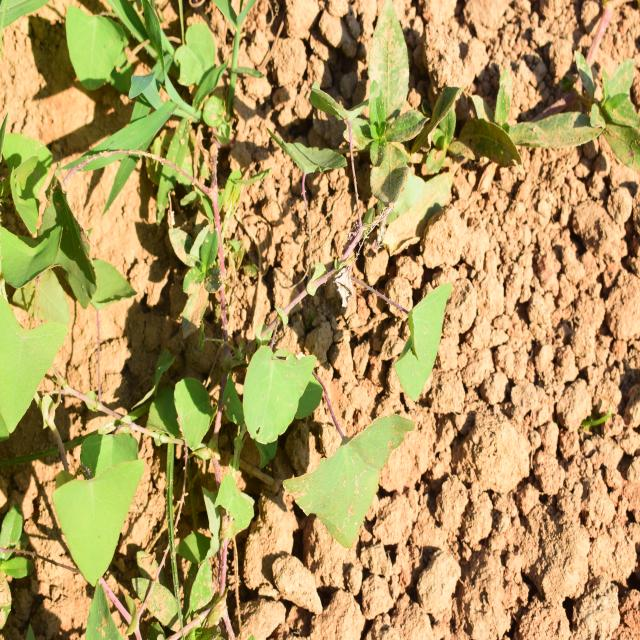Asiatic_Smartweed: (225, 304, 399, 555), (0, 151, 89, 414), (42, 411, 151, 588)
